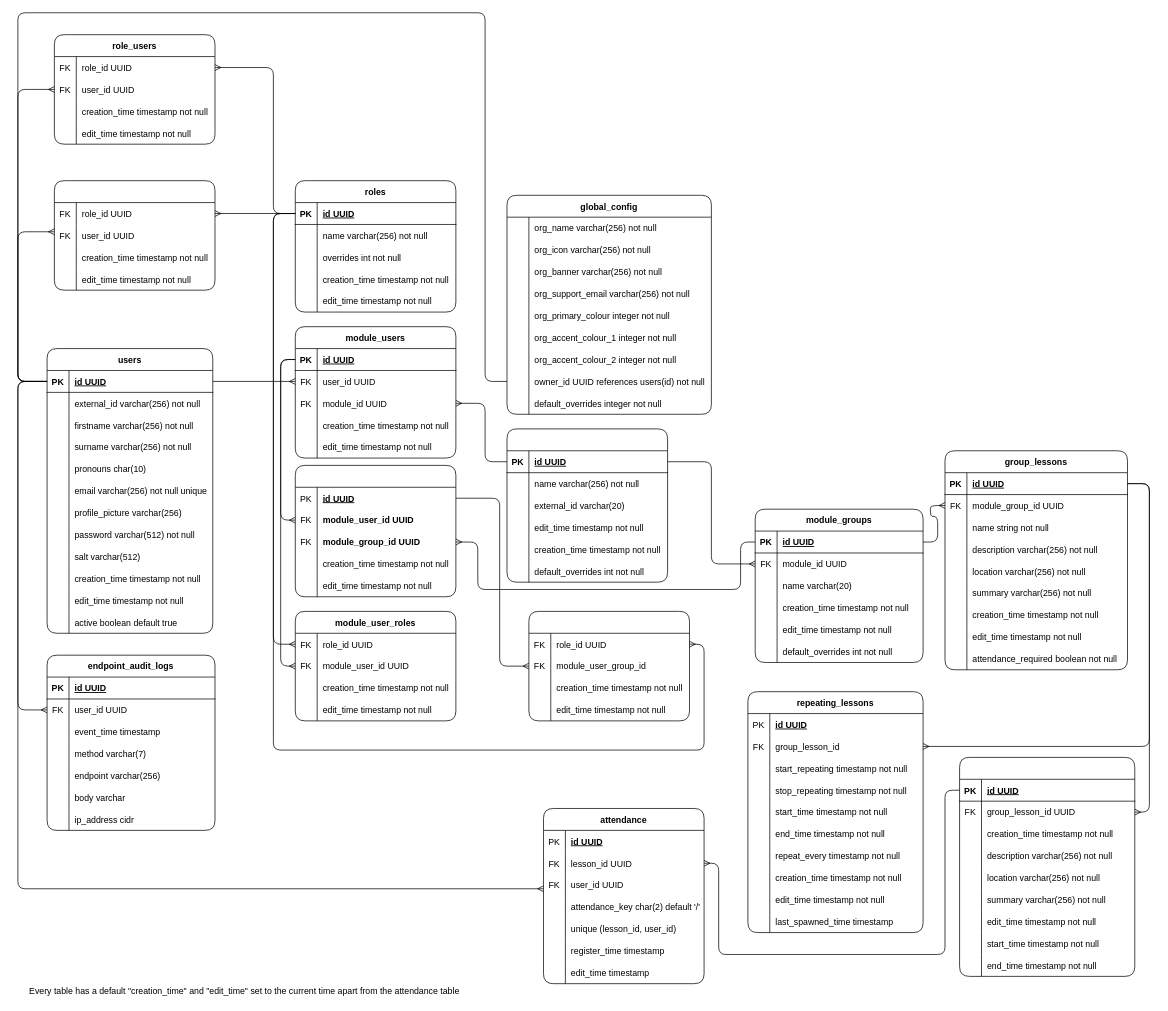
Image size: 1168x1011. Some labels were removed from this diagram. Here are the shapes that lost their labels. From the top down, the box of each, then its label:
(54, 180, 215, 290): attendance_user_roles
(506, 428, 668, 582): modules
(295, 465, 456, 597): module_user_groups
(528, 611, 689, 721): module_group_user_roles
(959, 757, 1135, 976): actual_lessons
